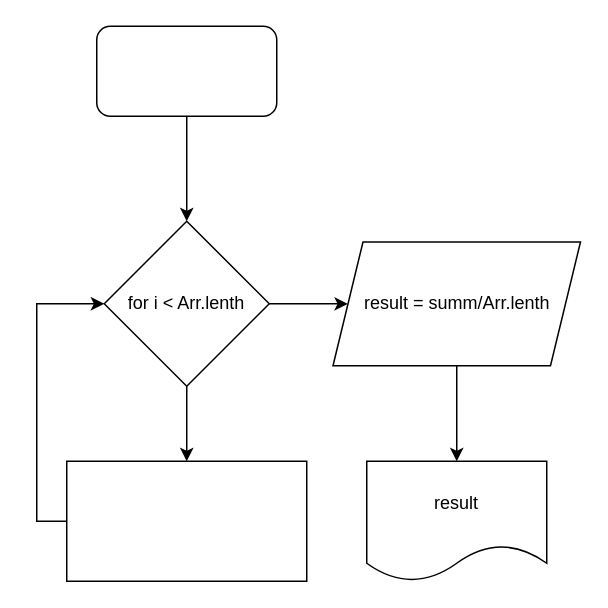
Image size: 608x608. Some labels were removed from this diagram. Each missing label, with the centre of its shape:
Arr[] = a,b,c,d, i = 0, summ = 0: the point at 186,70
summ = summ + arr[i], i++: the point at 186,520
